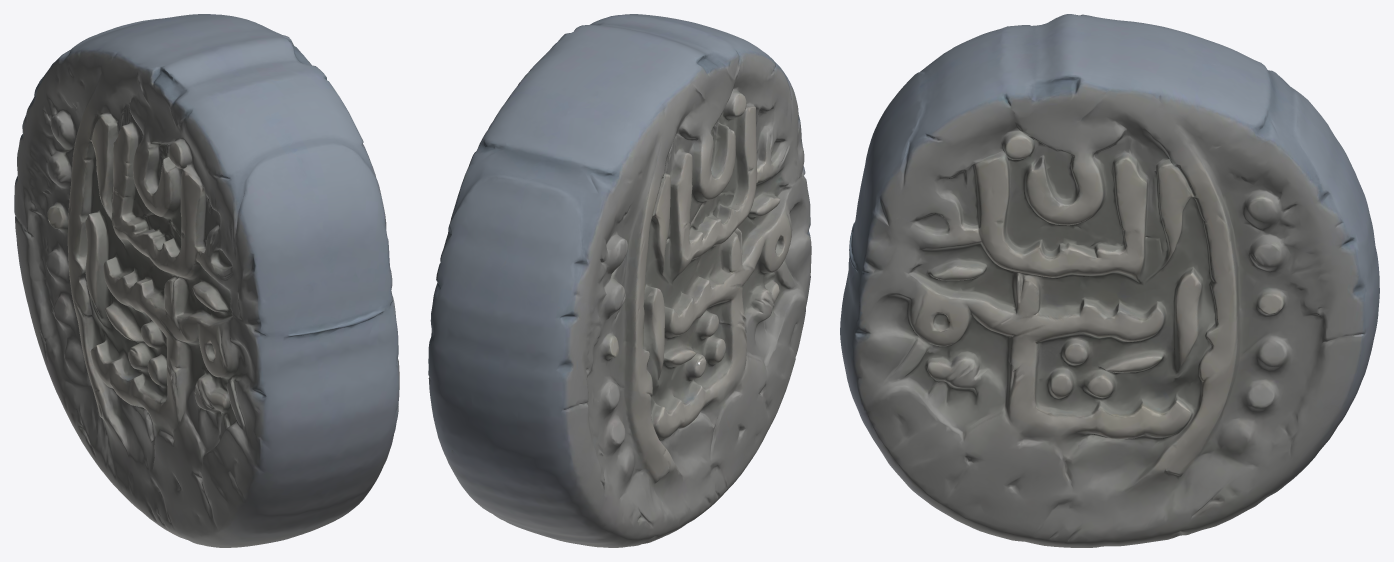
Rendered from sikke.glb.
The picture shows the model from 3 angles, left to right: view 1: azimuth 30°, elevation 25°; view 2: azimuth 150°, elevation 25°; view 3: azimuth 270°, elevation 25°; orthographic projection. The views are drawn at different scales.
Parts seen in each view (by area): view 1: tripo_node_07c0bcc9-2f8d-4b34-bbc9-feebbad829c6; view 2: tripo_node_07c0bcc9-2f8d-4b34-bbc9-feebbad829c6; view 3: tripo_node_07c0bcc9-2f8d-4b34-bbc9-feebbad829c6.
Boxes of the visible parts, bbox=[...] form: tripo_node_07c0bcc9-2f8d-4b34-bbc9-feebbad829c6: bbox=[14, 14, 399, 547]; tripo_node_07c0bcc9-2f8d-4b34-bbc9-feebbad829c6: bbox=[428, 14, 811, 547]; tripo_node_07c0bcc9-2f8d-4b34-bbc9-feebbad829c6: bbox=[840, 14, 1379, 547].
Bounding box in the file's own units: 0.3538 × 0.9996 × 0.9995.
1 material, 1 textured.
